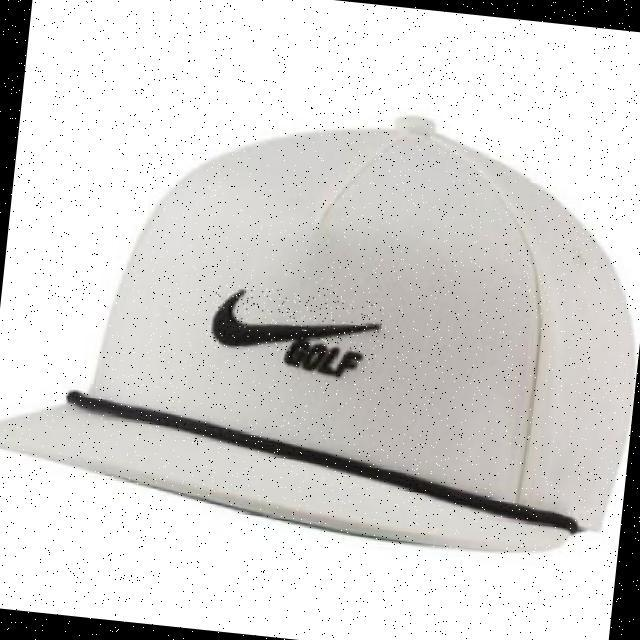Nike: (208, 283, 388, 361)
